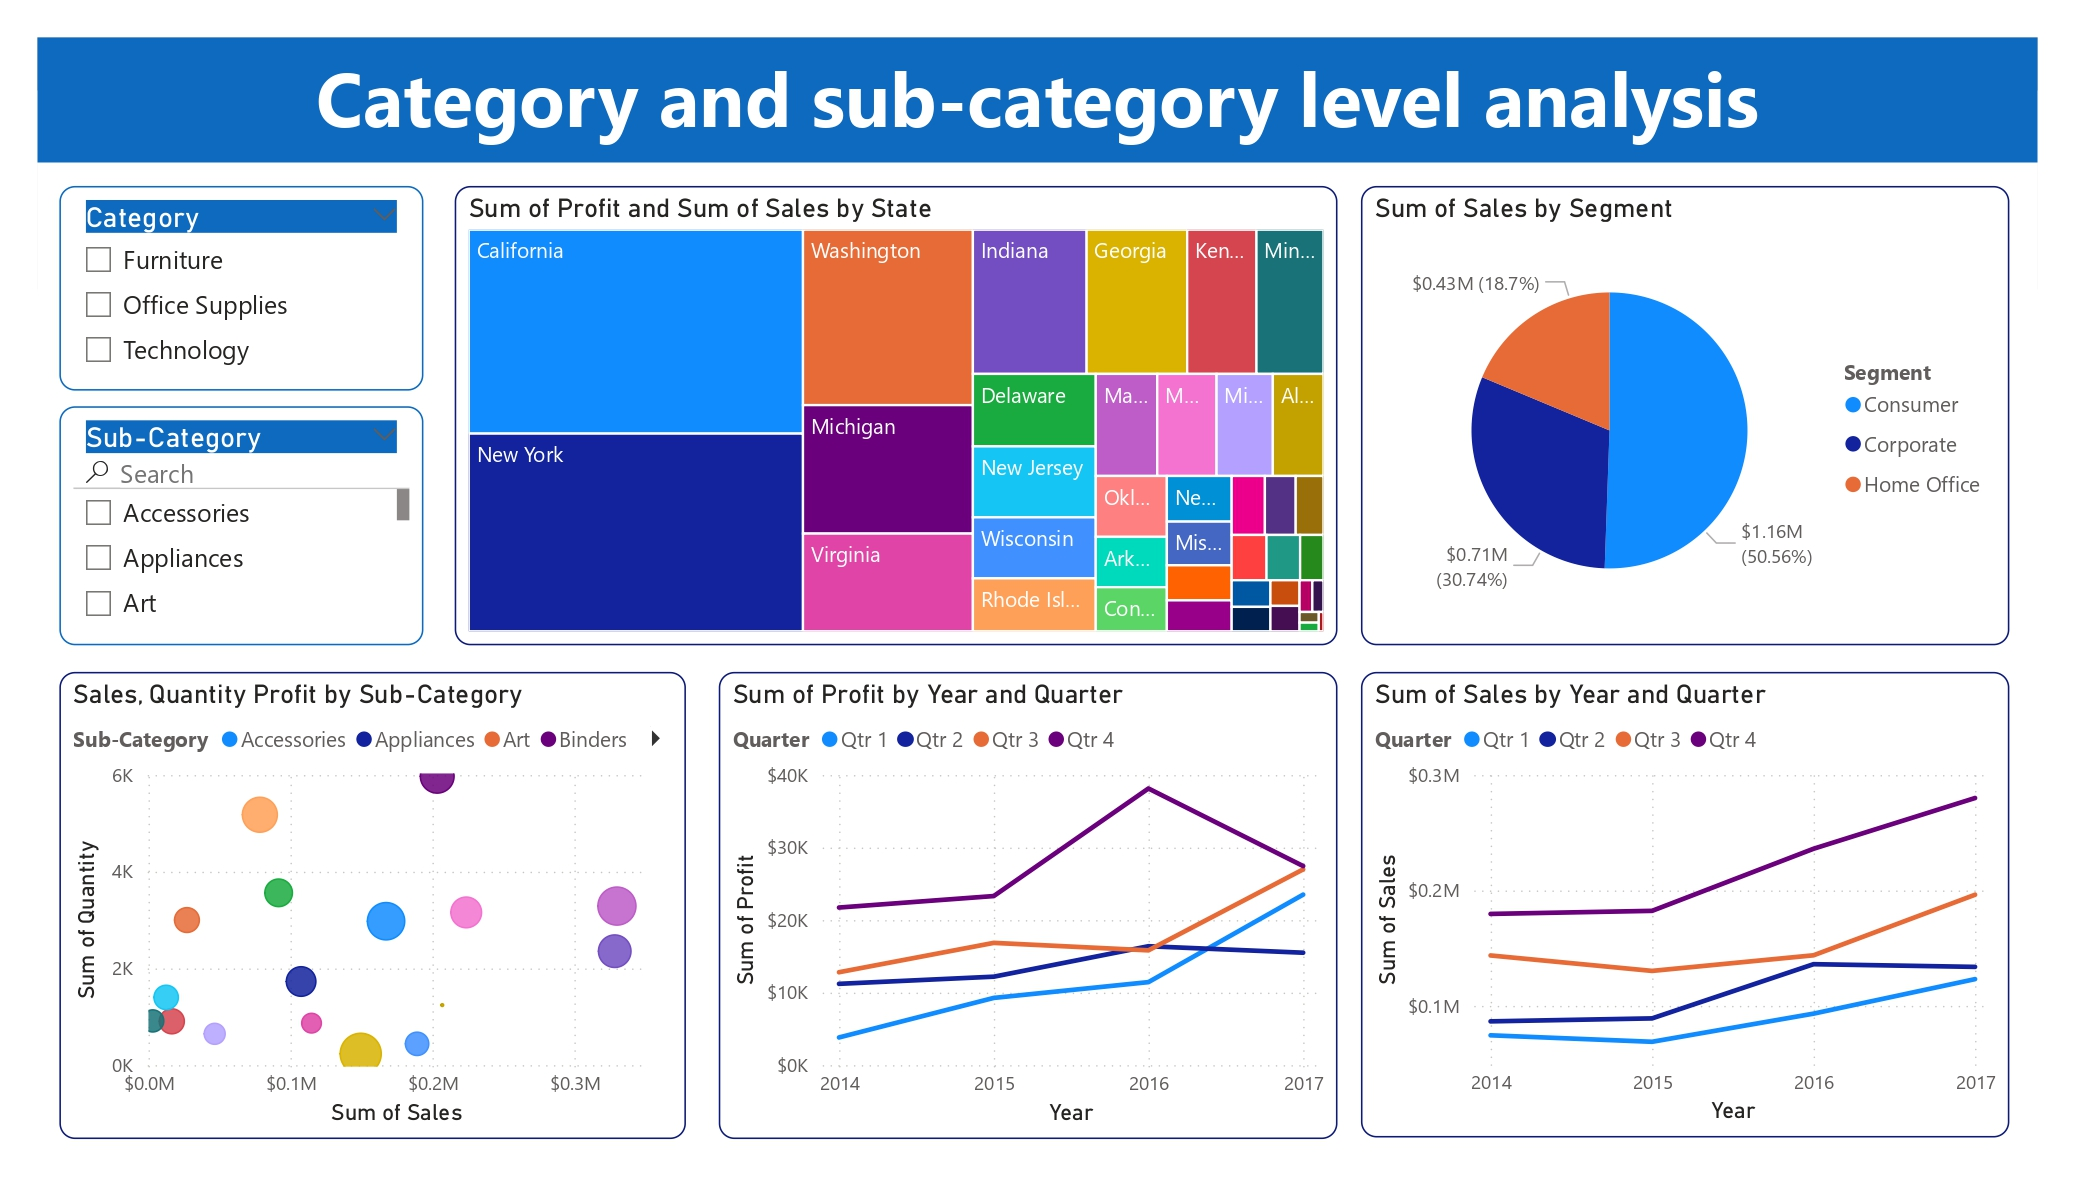

Layout of this report page (visuals, bound fields, positions):
{"tool":"powerbi","page":{"name":"Category and sub-category","canvas":[1280,720],"ordinal":2},"visuals":[{"type":"textbox","box":[0,0,1280.3,80.3],"z":0},{"type":"slicer","fields":{"Values":["Orders.Category"]},"box":[13.6,95.5,233.3,130.3],"z":1},{"type":"slicer","fields":{"Values":["Orders.Sub-Category"]},"box":[13.6,236.4,233.3,153],"z":2},{"type":"treemap","fields":{"Group":["Orders.State"],"Values":["Sum(Orders.Profit)"]},"box":[266.7,95.5,565.2,293.9],"z":3},{"type":"pieChart","fields":{"Category":["Orders.Segment"],"Y":["Sum(Orders.Sales)"]},"box":[847,95.5,415.2,293.9],"z":4},{"type":"scatterChart","title":"Sales, Quantity Profit by Sub-Category","fields":{"Series":["Orders.Sub-Category"],"X":["Sum(Orders.Sales)"],"Y":["Sum(Orders.Quantity)"],"Size":["Sum(Orders.Profit)"]},"box":[13.6,406.1,401.5,298.5],"z":5},{"type":"lineChart","fields":{"Category":["Orders.Year"],"Y":["Sum(Orders.Profit)"],"Series":["Orders.Quarter"]},"box":[436.4,406.1,395.5,298.5],"z":6},{"type":"lineChart","fields":{"Category":["Orders.Year"],"Y":["Sum(Orders.Sales)"],"Series":["Orders.Quarter"]},"box":[847,406,415,298],"z":7}]}

Visuals, with their boxes in screenshot pixels (x1, y1, x2, y2):
textbox: box(38, 38, 2038, 163)
slicer - Orders.Category: box(59, 187, 423, 390)
slicer - Orders.Sub-Category: box(59, 407, 423, 646)
treemap - Orders.State x Sum(Orders.Profit): box(454, 187, 1337, 646)
pieChart - Orders.Segment x Sum(Orders.Sales): box(1361, 187, 2010, 646)
"Sales, Quantity Profit by Sub-Category" scatterChart: box(59, 672, 686, 1138)
lineChart - Orders.Year x Sum(Orders.Profit): box(719, 672, 1337, 1138)
lineChart - Orders.Year x Sum(Orders.Sales): box(1361, 672, 2009, 1138)
